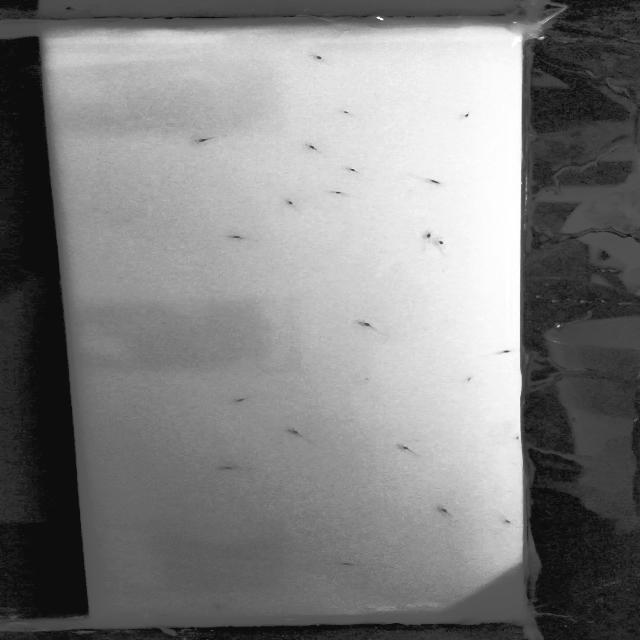shrimp: (470, 345, 518, 362), (363, 322, 394, 340), (231, 228, 271, 240), (332, 556, 361, 572), (397, 444, 425, 460), (284, 429, 308, 447), (302, 142, 332, 156), (183, 135, 220, 146), (335, 106, 362, 121), (416, 176, 450, 187), (220, 461, 248, 474), (232, 393, 254, 407), (435, 236, 449, 258), (435, 504, 454, 520), (281, 200, 308, 211), (203, 604, 227, 616), (417, 226, 429, 250), (302, 53, 328, 64), (457, 373, 479, 384), (494, 518, 516, 528), (330, 190, 357, 198), (457, 112, 478, 120), (341, 167, 361, 175)
